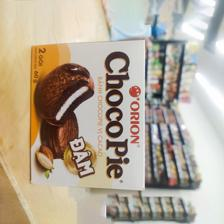Chocopie_cacao: (26, 39, 147, 191)
